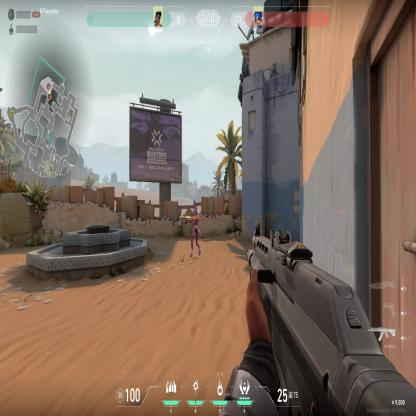enemy: (185, 204, 201, 260)
